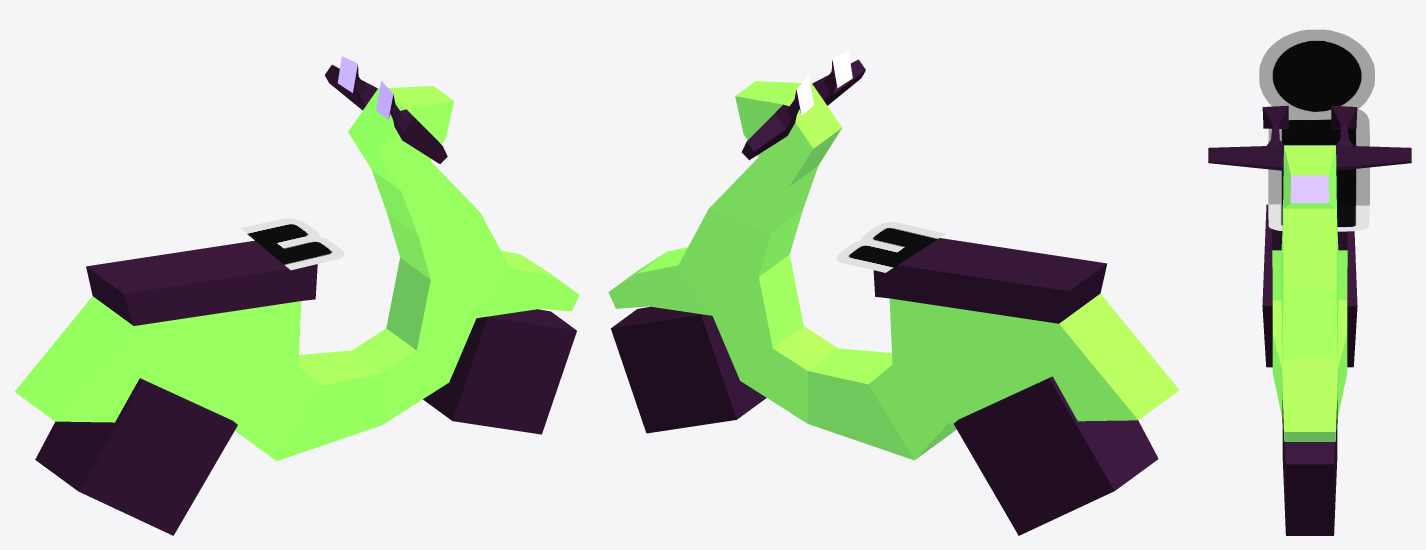
File: Motor_Spion_NoPlat.fbx
3 renders of one model, left to right at view 1: azimuth 30°, elevation 25°; view 2: azimuth 150°, elevation 25°; view 3: azimuth 270°, elevation 25°, orthographic. The views are drawn at different scales.
Visible parts, largest first — view 1: Motor_Spion_No_Plat, Sprite People.003; view 2: Motor_Spion_No_Plat, Sprite People.003; view 3: Motor_Spion_No_Plat, Sprite People.003.
Part boxes in pixels (bbox=[...]): Motor_Spion_No_Plat: bbox=[14, 56, 579, 535]; Sprite People.003: bbox=[240, 218, 343, 270]; Motor_Spion_No_Plat: bbox=[608, 51, 1179, 535]; Sprite People.003: bbox=[836, 222, 945, 272]; Motor_Spion_No_Plat: bbox=[1208, 105, 1411, 535]; Sprite People.003: bbox=[1259, 29, 1374, 231].
Bounding box in the file's own units: 262 × 210 × 95.02.
